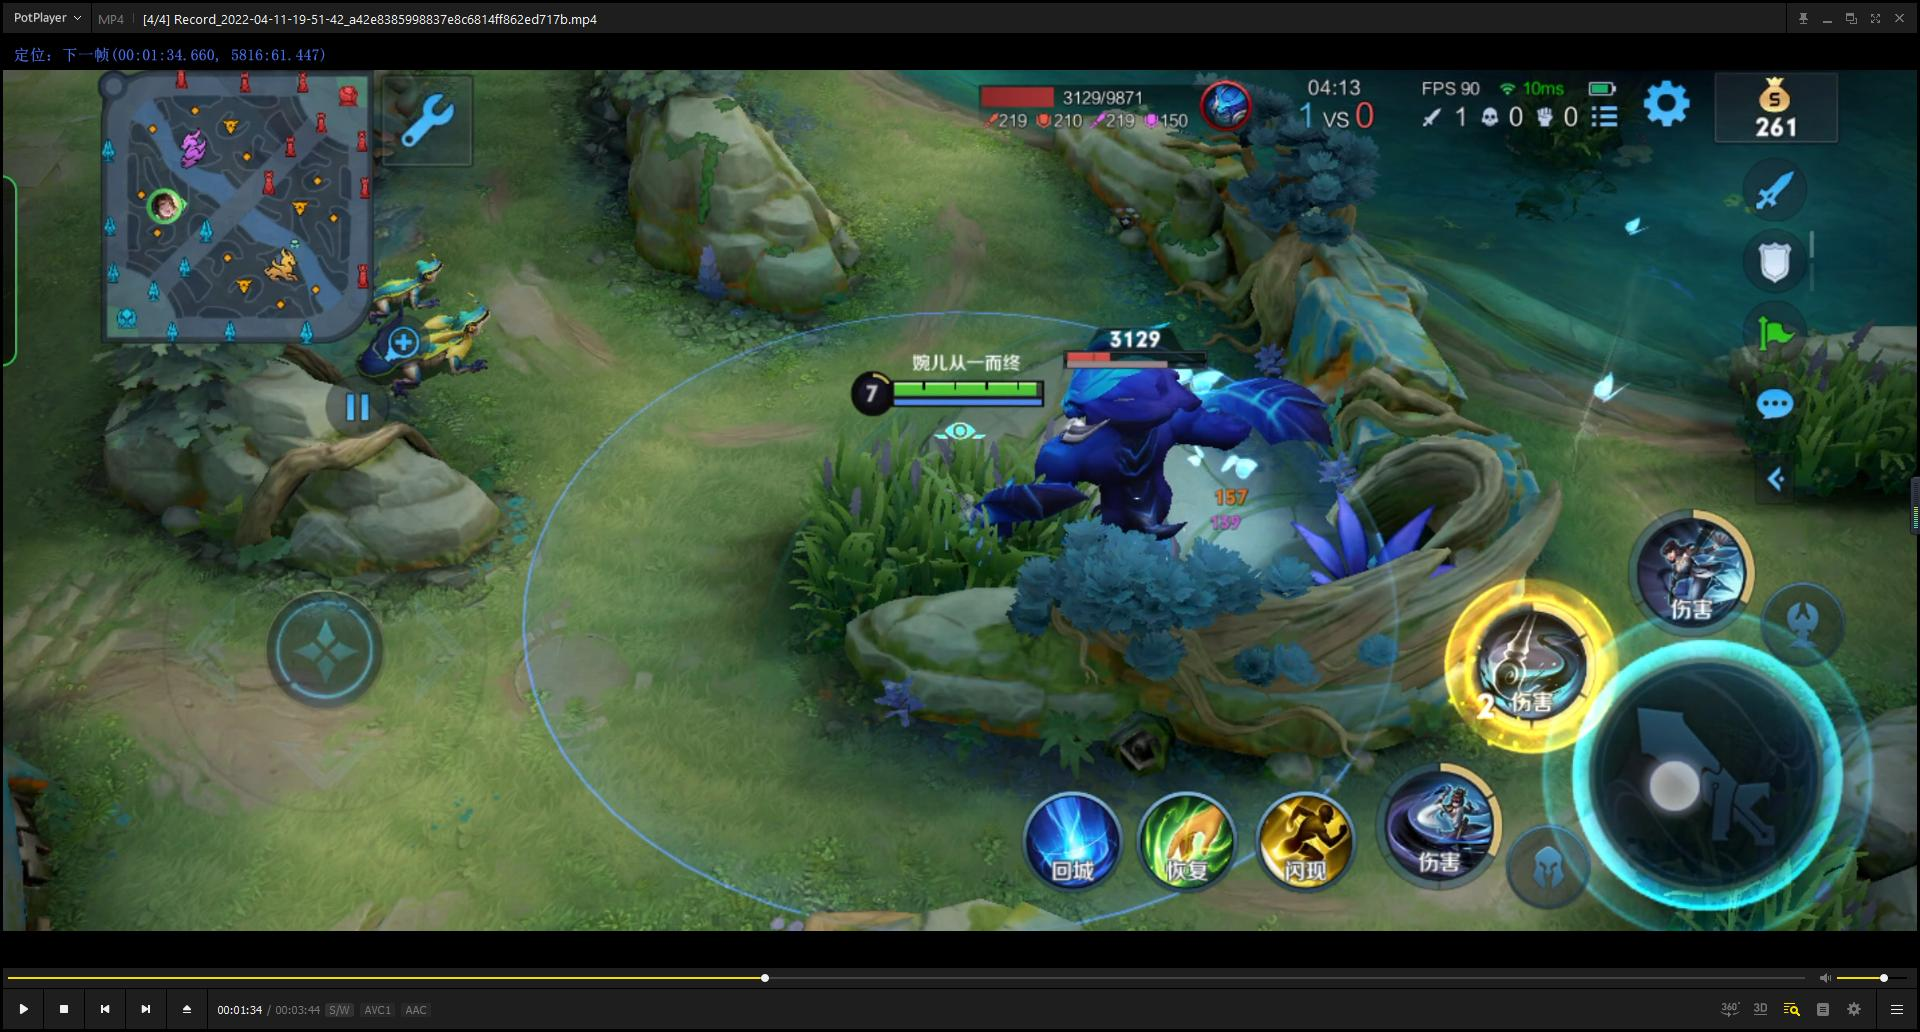Buff: (945, 304, 1319, 602)
Lizard: (368, 294, 504, 405), (362, 249, 454, 322)
